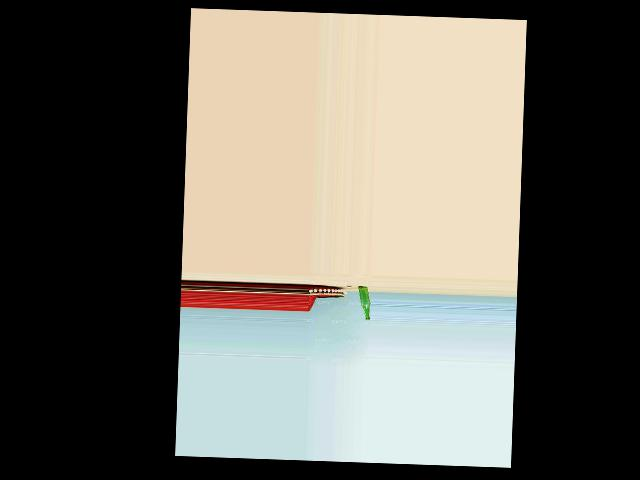beer: (357, 285, 370, 320)
